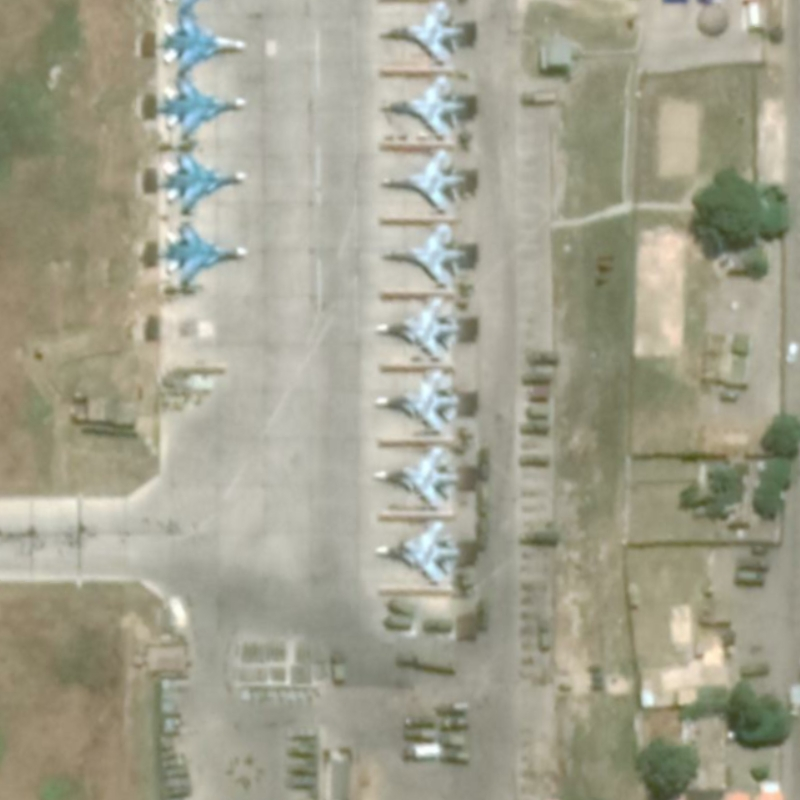A1: (377, 71, 466, 139), (380, 146, 466, 216), (380, 219, 466, 287), (377, 1, 465, 65)
A19: (158, 220, 252, 288), (371, 516, 461, 586), (157, 149, 251, 216), (372, 366, 461, 435), (370, 442, 460, 510), (157, 76, 249, 141), (156, 11, 249, 75), (372, 295, 460, 362)
